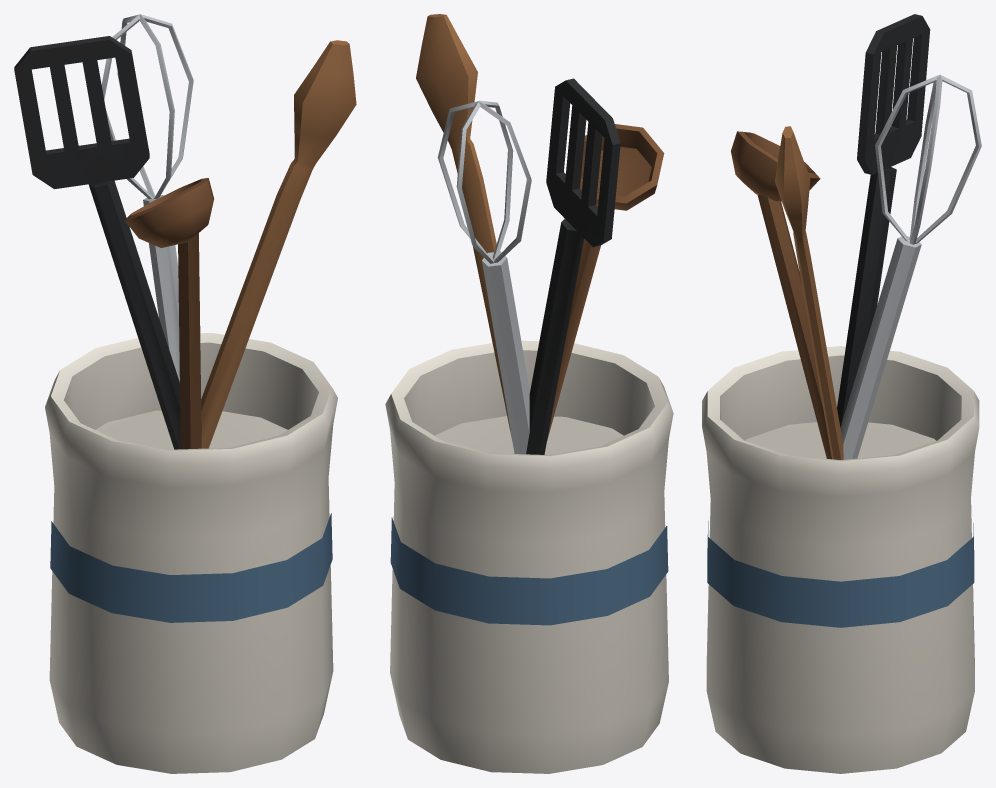
Rendered from utensilCrock.glb.
3 views of the same model, side by side, from view 1: azimuth 30°, elevation 25°; view 2: azimuth 150°, elevation 25°; view 3: azimuth 270°, elevation 25° (orthographic). The views are drawn at different scales.
Visible parts, largest first — view 1: utensilCrock; view 2: utensilCrock; view 3: utensilCrock.
Boxes of the visible parts, x1,y1,x2,y2 form: utensilCrock: [14, 14, 356, 773]; utensilCrock: [385, 14, 673, 773]; utensilCrock: [702, 14, 981, 773].
Size of the model in its own units: 0.1319 by 0.3168 by 0.1219.
